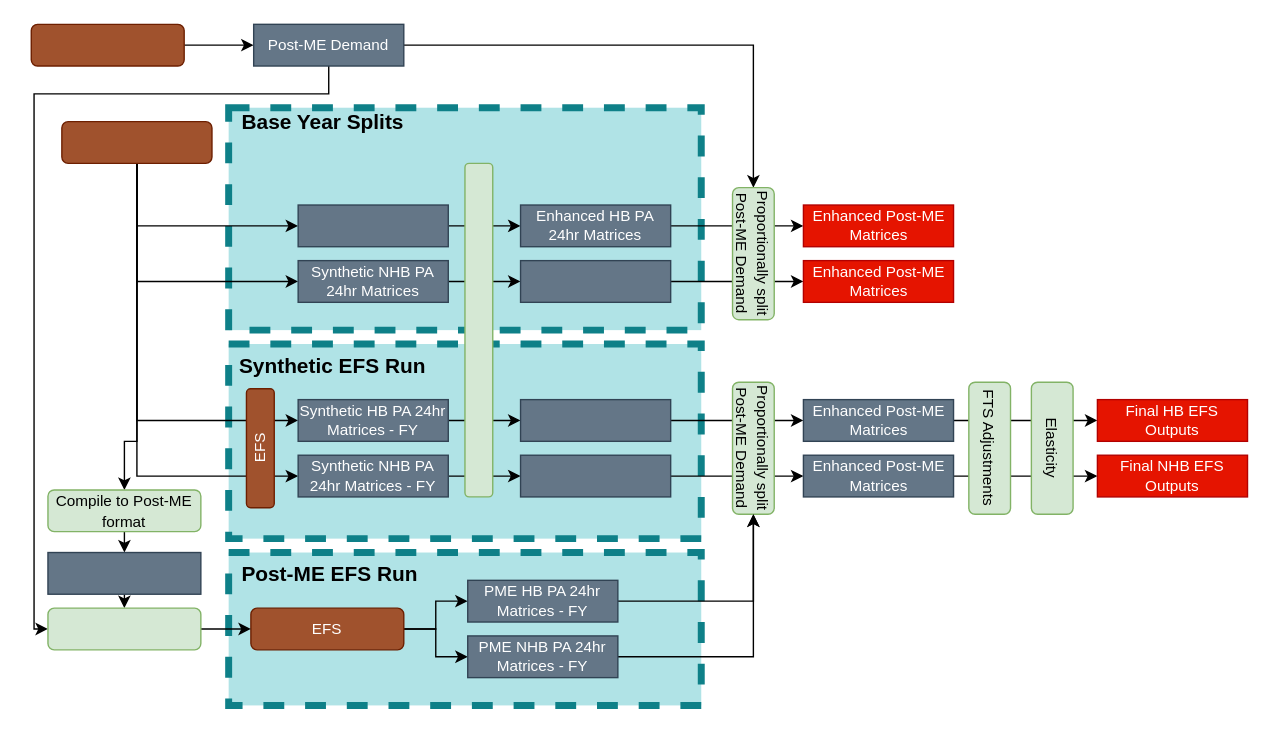
This 1272x733 diagram has some shape labels left out. Here are the shapes that lost their labels. From the top down, the centre of each, then its label:
(107,44): Assignment Model
(136,141): Distribution Model
(372,225): Synthetic HB PA 24hr Matrices
(595,280): Enhanced NHB PA 24hr Matrices
(478,329): Traveller Segment Tool
(595,419): Enhanced HB PA 24hr Matrices - FY
(595,475): Enhanced NHB PA 24hr Matrices - FY
(124,572): Post-ME splitting factors
(124,628): Decompile Post-ME matrices
